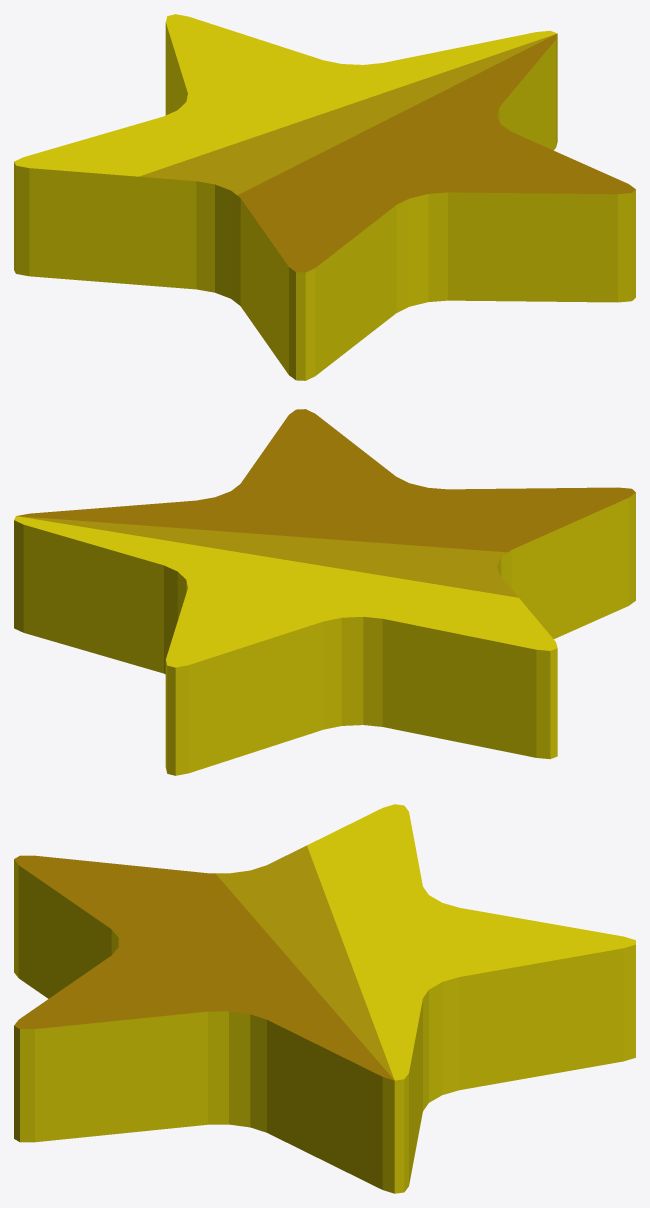
The model's file is star.fbx.
The picture shows the model from 3 angles, top to bottom: view 1: azimuth 30°, elevation 25°; view 2: azimuth 150°, elevation 25°; view 3: azimuth 270°, elevation 25°; orthographic projection. The views are drawn at different scales.
Parts seen in each view (by area): view 1: star; view 2: star; view 3: star.
Boxes of the visible parts, bbox=[...] form: star: bbox=[14, 14, 635, 380]; star: bbox=[14, 409, 635, 775]; star: bbox=[14, 804, 635, 1193].
Bounding box in the file's own units: 180 × 34.36 × 171.
